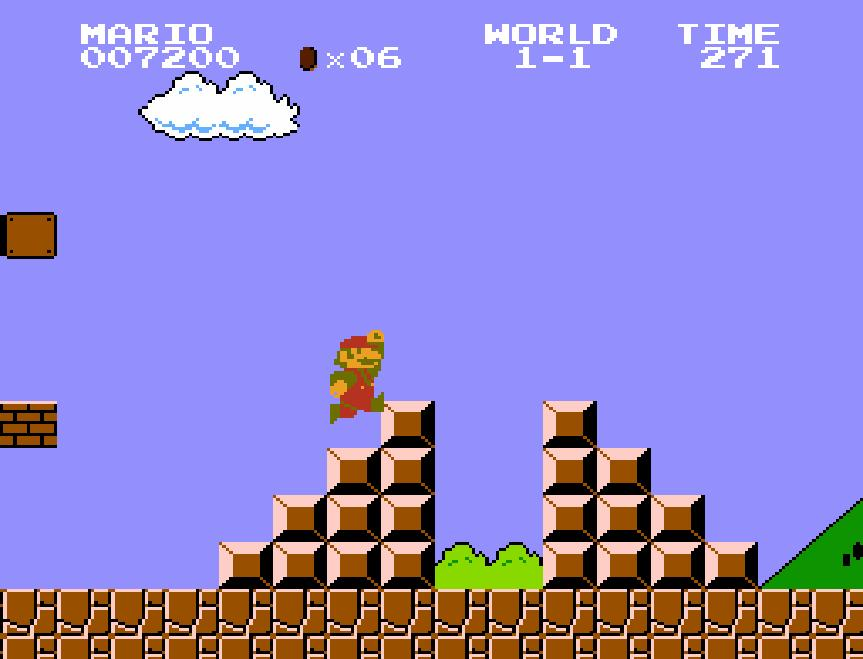big_mario: (328, 328, 386, 426)
